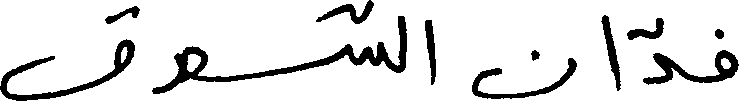ا: (600, 13, 620, 91), (422, 17, 436, 84)
د: (641, 15, 672, 84)
س: (344, 0, 384, 66)
ف: (713, 26, 737, 81)
ق: (0, 3, 135, 98)
ل: (394, 14, 405, 73)
ن: (471, 47, 577, 98)
و: (151, 44, 207, 94)
